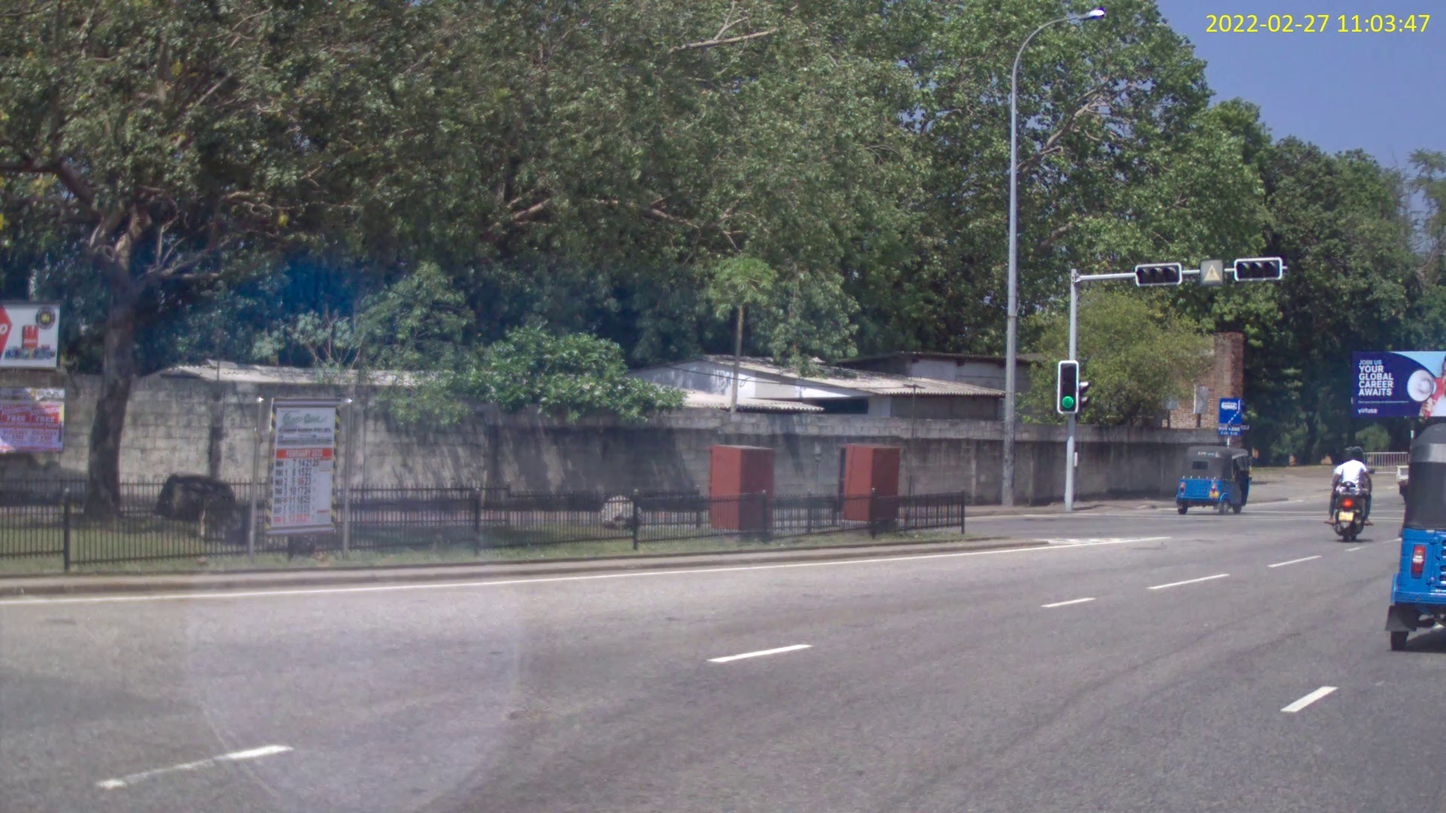green: (1233, 256, 1282, 281), (1134, 261, 1182, 286), (1056, 359, 1078, 413)
